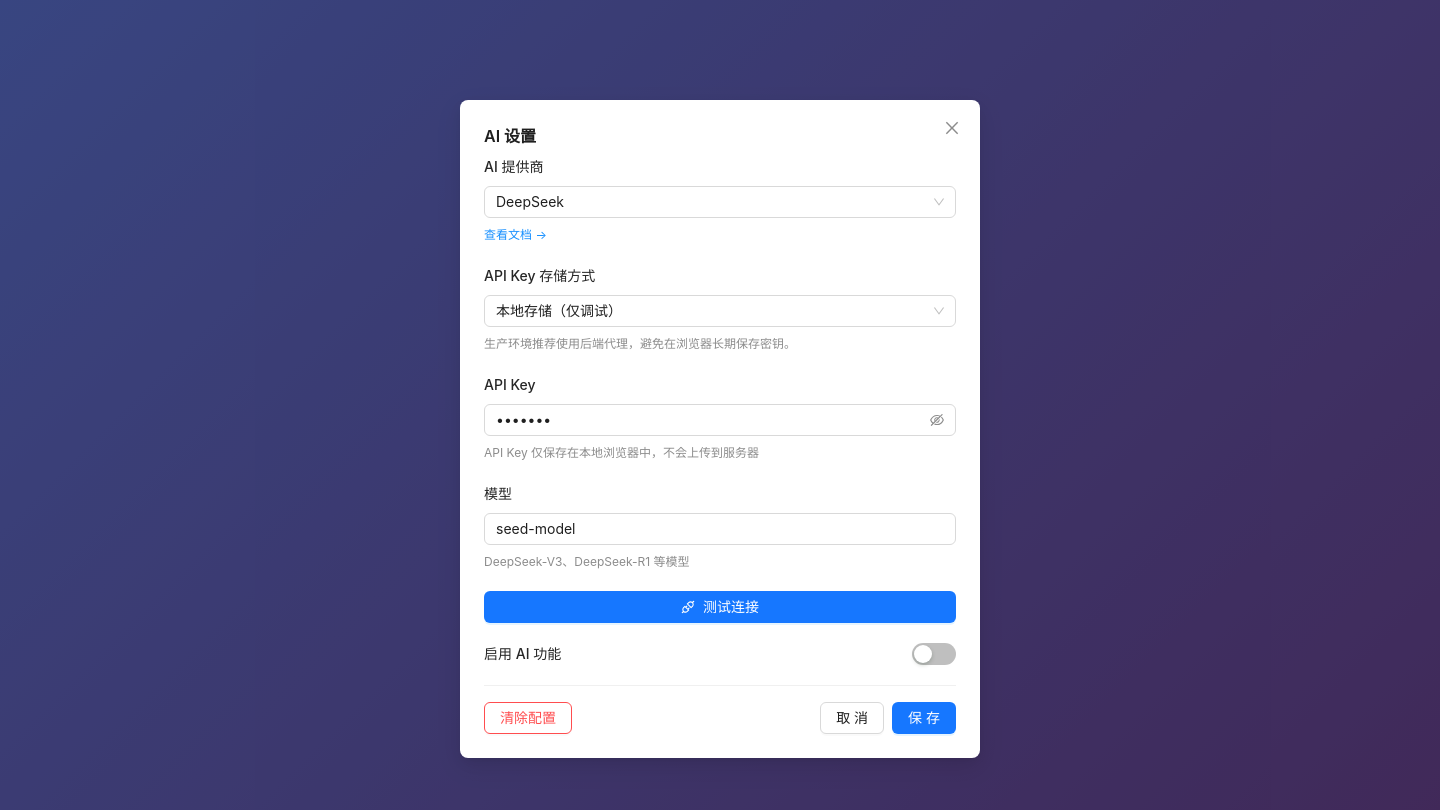
Test: AiSettingsModal 保存 / 取消 / 清除 › 清除配置把存储与表单一起打回默认值，但不关弹窗
This screenshot has width=1440, height=810.
Expected: the field holds "seed-model", left=484, top=512, right=956, bottom=544
Click the button "清除配置".
click(528, 718)  # box left=484, top=702, right=572, bottom=734
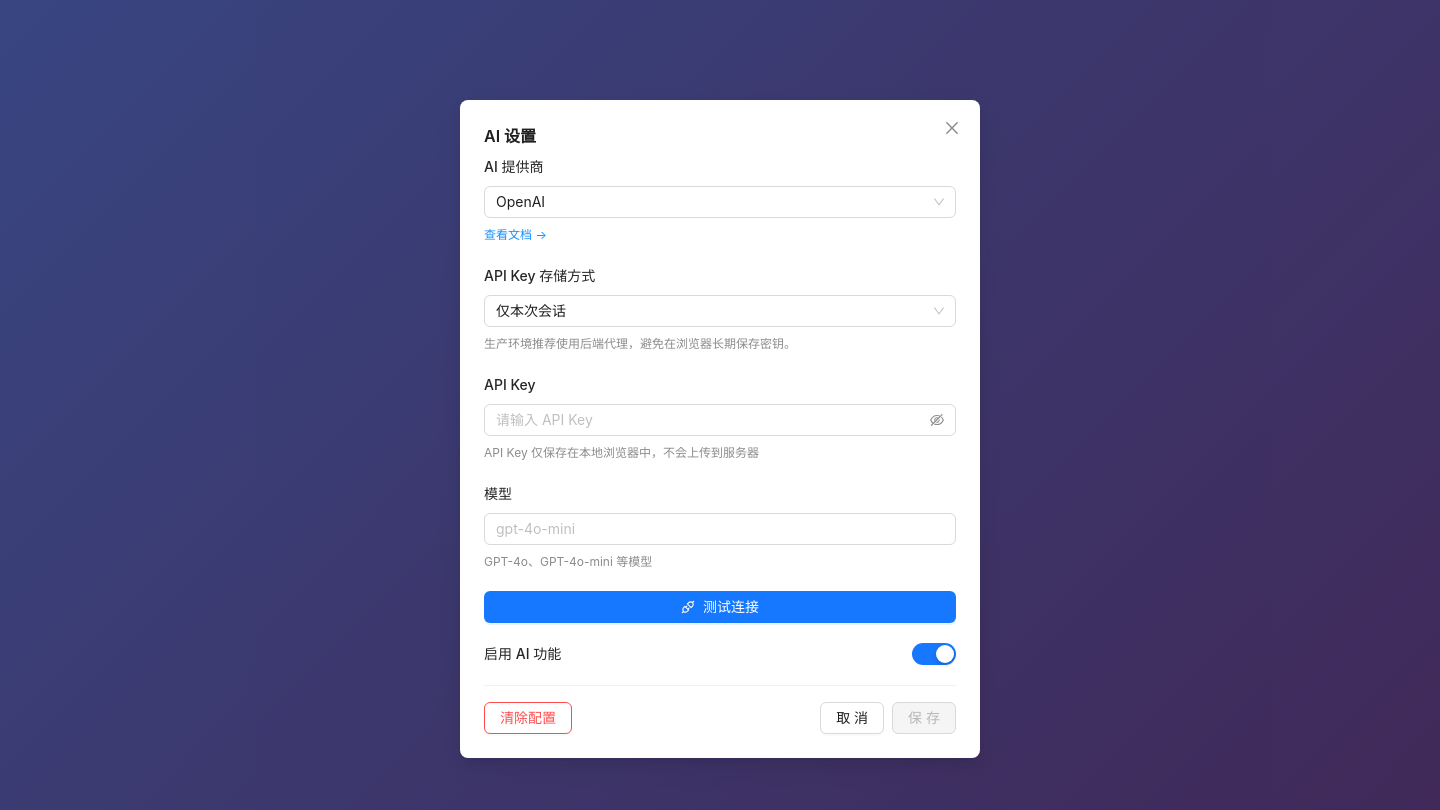
Expected: the field with placeholder "gpt-4o-mini" is empty, left=484, top=512, right=956, bottom=544
Expected: the text "OpenAI" is shown, left=496, top=193, right=545, bottom=210
